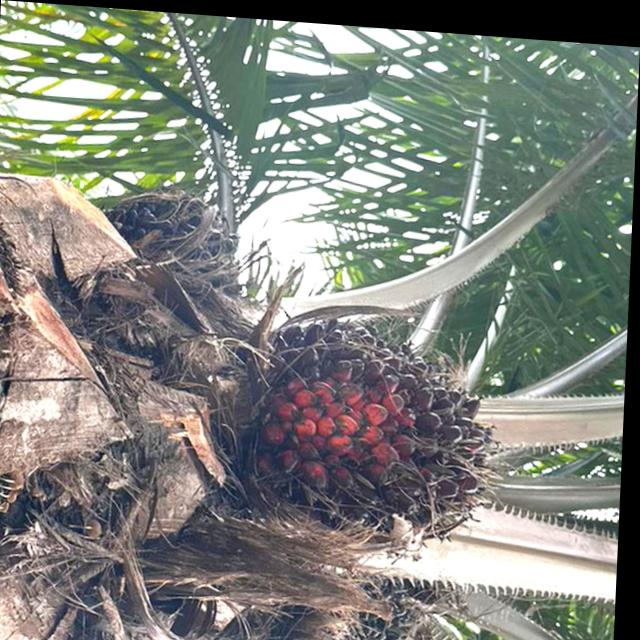ripe: (231, 289, 538, 569)
